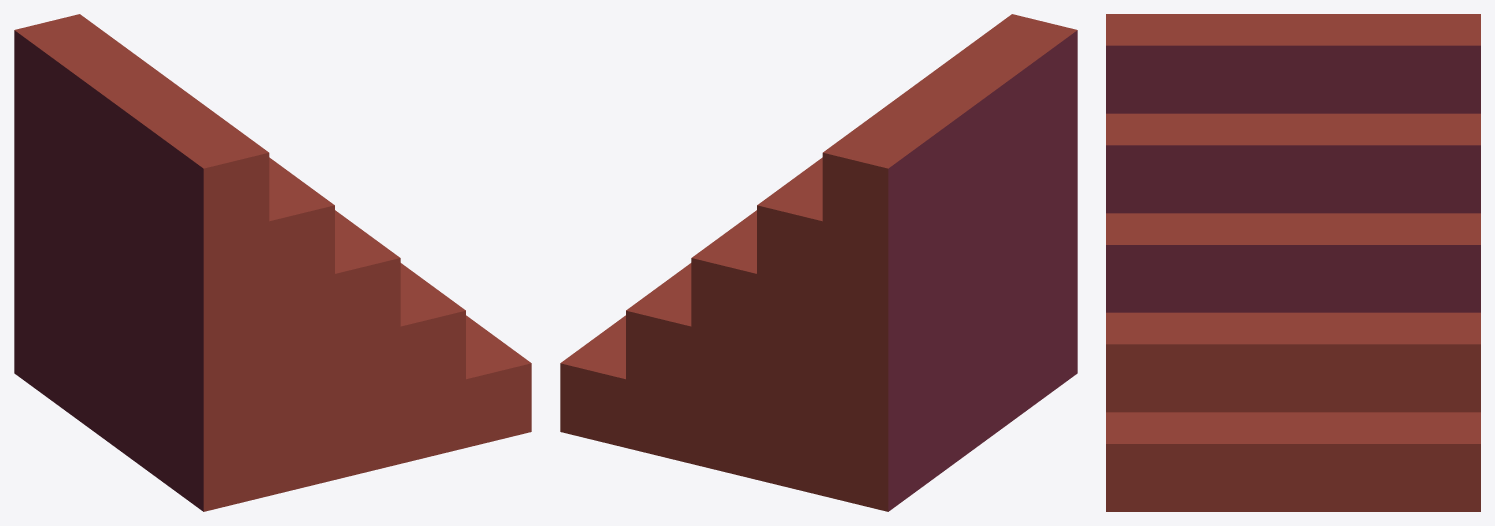
Rendered from stairs.glb.
3 views of the same model, side by side, from view 1: azimuth 30°, elevation 25°; view 2: azimuth 150°, elevation 25°; view 3: azimuth 270°, elevation 25° (orthographic).
Visible parts, largest first — view 1: Stairs; view 2: Stairs; view 3: Stairs.
Boxes of the visible parts, x1,y1,x2,y2 form: Stairs: (14, 14, 531, 511); Stairs: (560, 14, 1077, 511); Stairs: (1106, 14, 1480, 511).
Bounding box in the file's own units: 1 × 1 × 1.
Materials: 1 (1 with a texture image).
